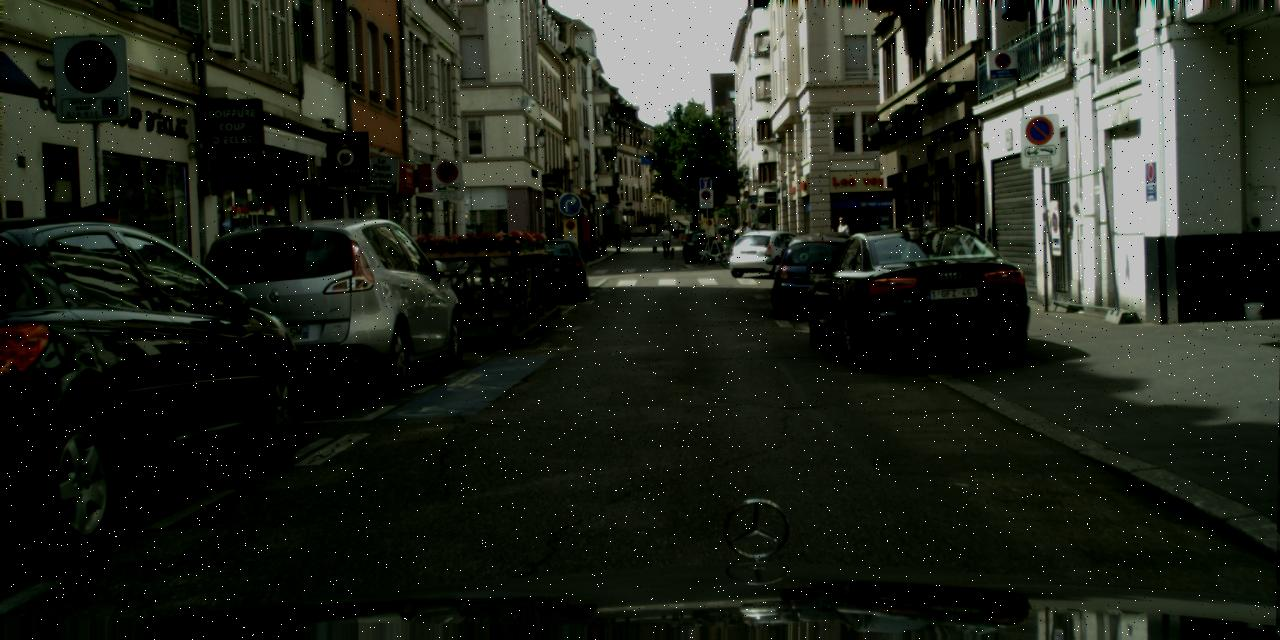ped: (828, 216, 855, 282), (744, 222, 760, 264), (737, 221, 753, 262), (550, 228, 566, 268), (660, 226, 671, 256), (672, 220, 679, 238), (625, 223, 632, 240), (725, 218, 731, 235)
